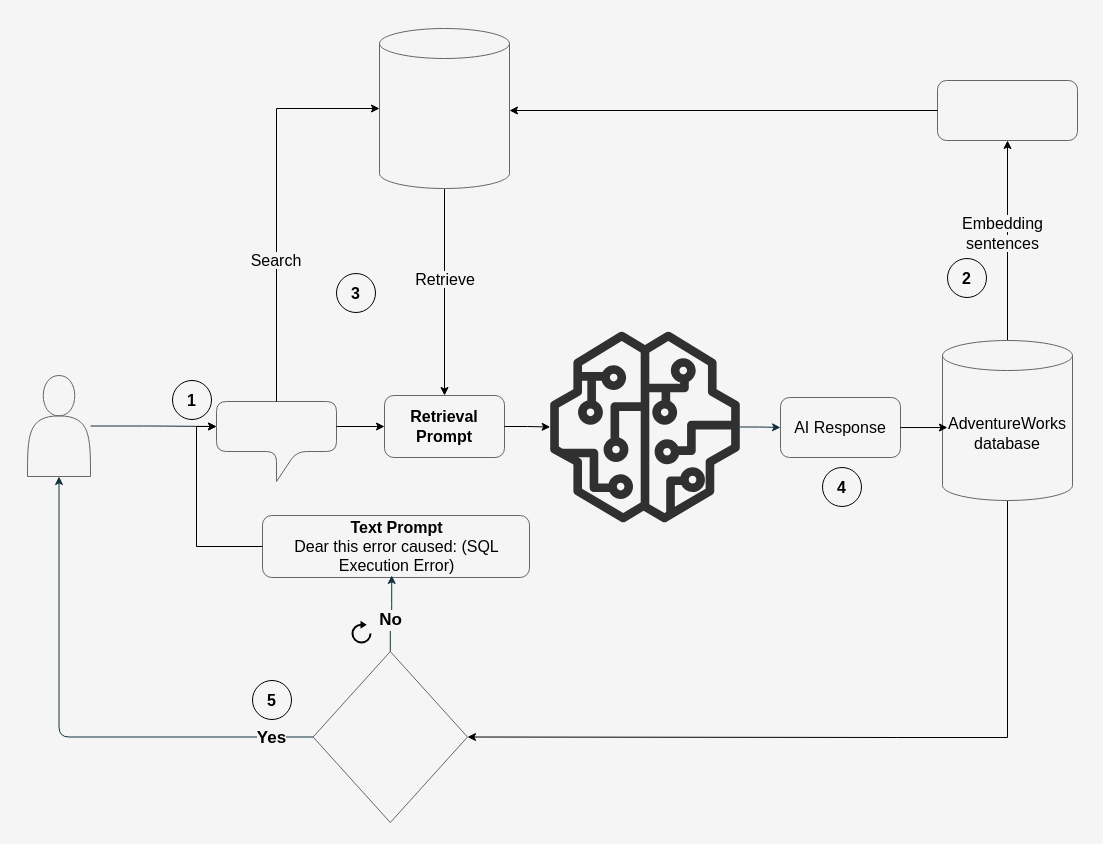
Image size: 1103x844. Some labels were removed from this diagram. The centre of each missing label's shape, as x and y in pixels:
Embedding Model: the point at 1007,110
Is SQL Response Valid?: the point at 390,736
Natural Language Question: the point at 276,441
Vector Database: the point at 444,108
